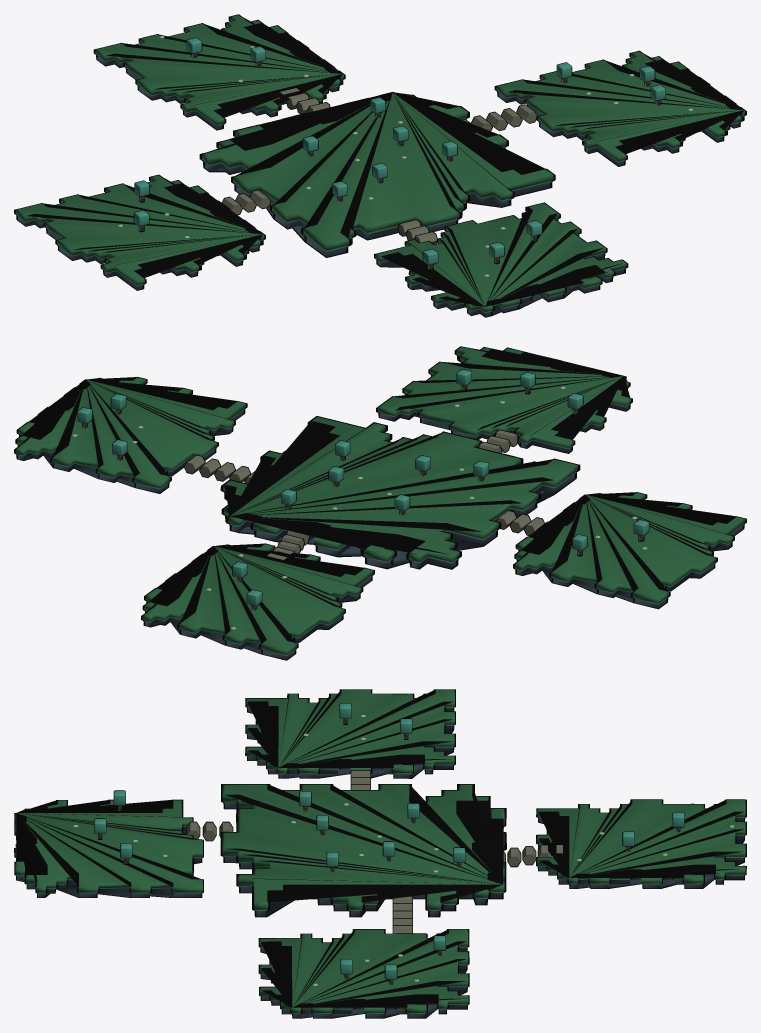
Rendered from Green.fbx.
3 views of the same model, one above another, from view 1: azimuth 30°, elevation 25°; view 2: azimuth 150°, elevation 25°; view 3: azimuth 270°, elevation 25° (orthographic).
Parts seen in each view (by area): view 1: Island.001, Island.002, Island.004, Island.003, Island.005; view 2: Island.001, Island.002, Island.005, Island.003, Island.004; view 3: Island.001, Island.004, Island.005, Island.003, Island.002.
Boxes of the visible parts, left/top/right/bottom form: Island.001: left=199, top=92, right=555, bottom=257; Island.002: left=14, top=174, right=265, bottom=290; Island.004: left=374, top=202, right=628, bottom=317; Island.003: left=494, top=50, right=746, bottom=166; Island.005: left=93, top=14, right=345, bottom=130; Island.001: left=220, top=416, right=580, bottom=569; Island.002: left=513, top=492, right=746, bottom=609; Island.005: left=141, top=543, right=374, bottom=660; Island.003: left=14, top=376, right=247, bottom=493; Island.004: left=376, top=346, right=632, bottom=453; Island.001: left=220, top=784, right=506, bottom=917; Island.004: left=14, top=799, right=203, bottom=897; Island.005: left=536, top=799, right=746, bottom=888; Island.003: left=258, top=929, right=469, bottom=1018; Island.002: left=245, top=689, right=455, bottom=778.
Bounding box in the file's own units: 390608 × 18158 × 377852.
